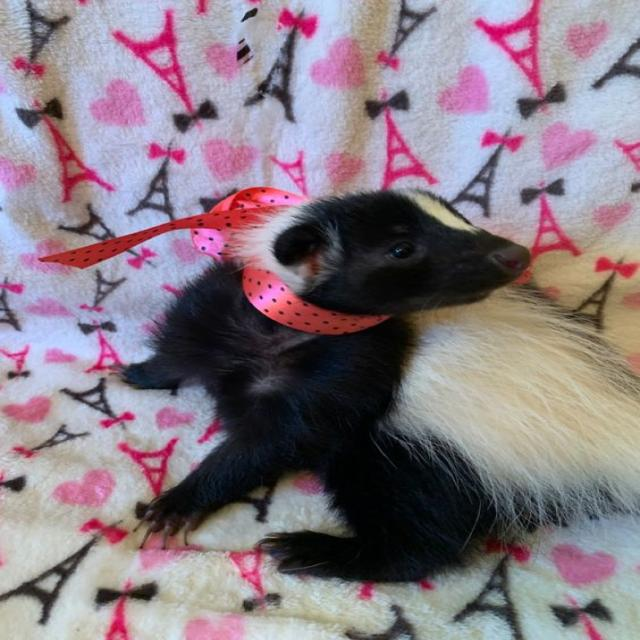Skunk: (92, 164, 640, 628)
